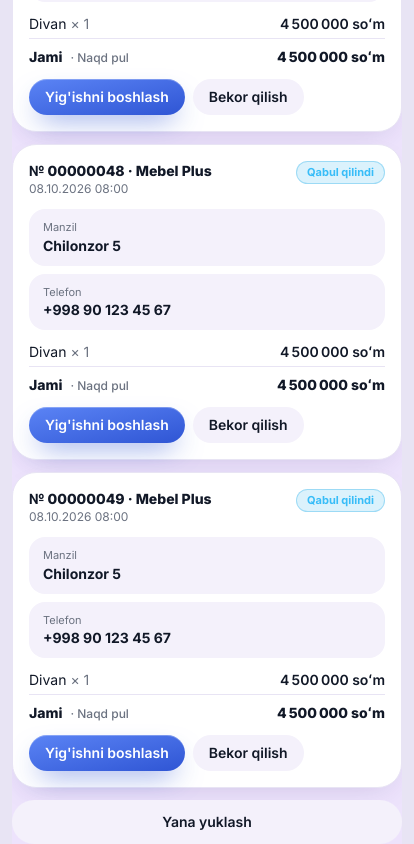
it: AdminOrders: many orders › offers more only when a whole page came back, and fetches the next page
(page scrolled)
Click the button "Yana yuklash": (207, 822) [12, 800, 402, 843]
(page scrolled)
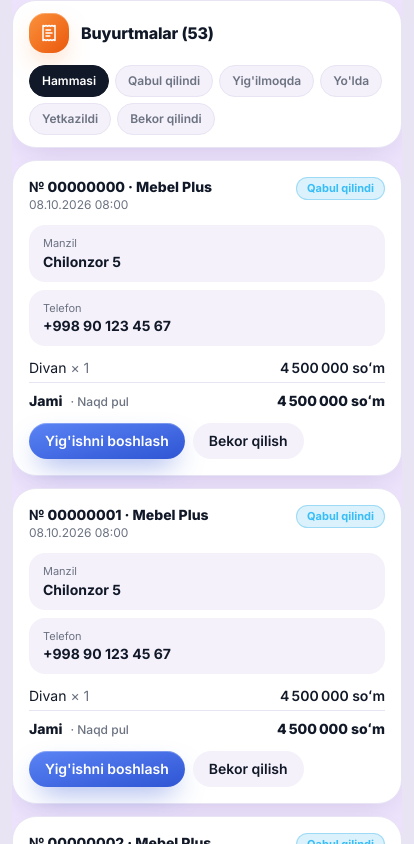
Expected: the heading "Buyurtmalar (53)" is shown, [81, 21, 214, 45]
Expected: the button "Yana yuklash" is gone
